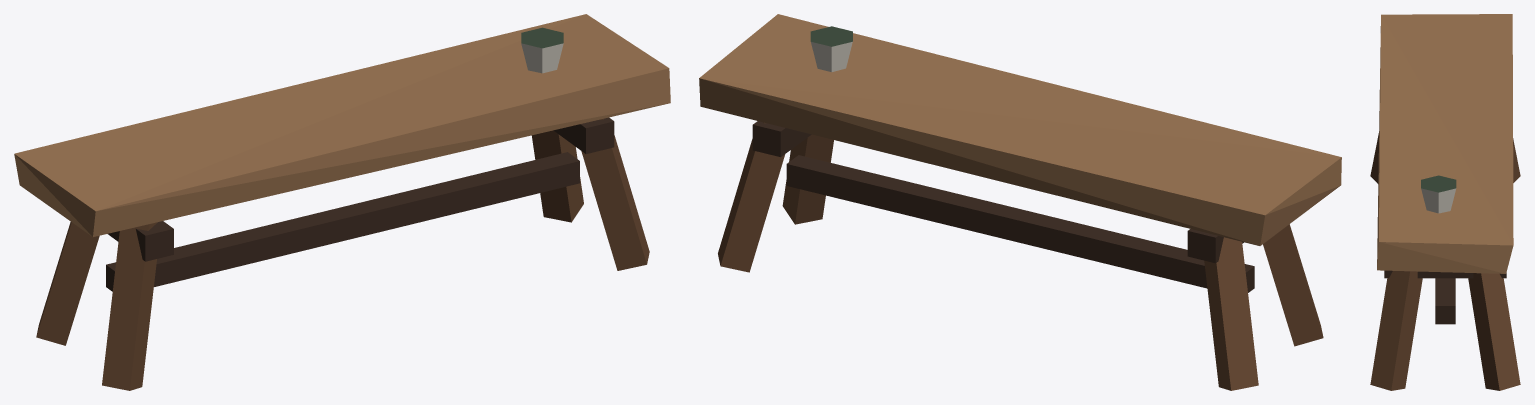
File: bench_wood.fbx
The picture shows the model from 3 angles, left to right: view 1: azimuth 30°, elevation 25°; view 2: azimuth 150°, elevation 25°; view 3: azimuth 270°, elevation 25°; orthographic projection. The views are drawn at different scales.
Visible parts, largest first — view 1: bench_wood; view 2: bench_wood; view 3: bench_wood.
Part boxes in pixels (bbox=[...]): bench_wood: bbox=[14, 14, 670, 390]; bench_wood: bbox=[699, 14, 1341, 390]; bench_wood: bbox=[1370, 14, 1520, 390].
Size of the model in its own units: 1.62 by 0.59 by 0.4429.
